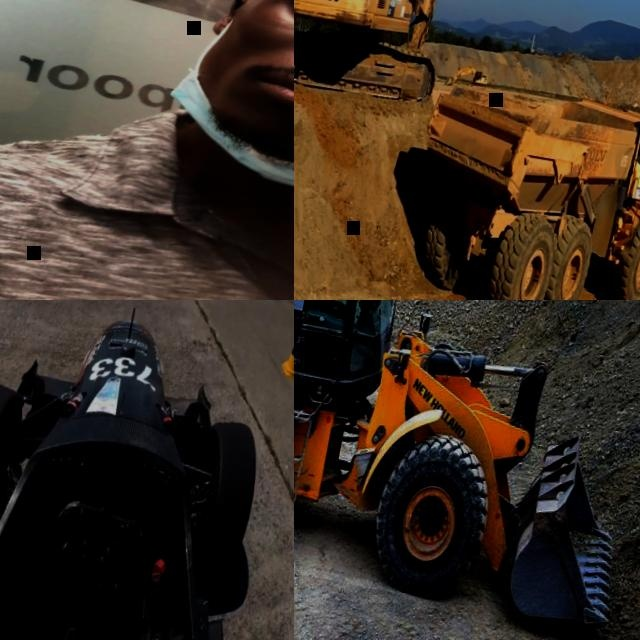NO-Mask: (188, 19, 294, 188)
NO-Safety Vest: (0, 103, 294, 300)
Person: (0, 0, 294, 300), (637, 131, 640, 159)
Safety Cone: (277, 327, 294, 382)
machinery: (294, 300, 640, 640), (392, 72, 640, 300), (294, 0, 463, 107), (450, 63, 490, 88)
vehicle: (0, 300, 292, 640)
